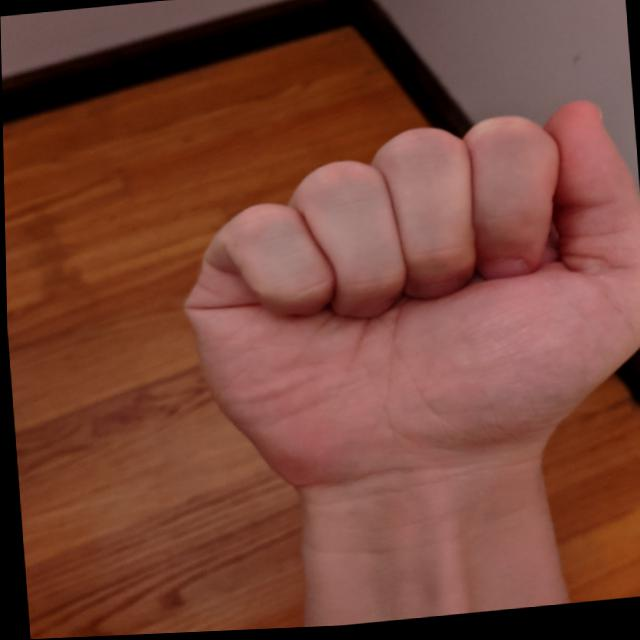A: (158, 94, 639, 516)
